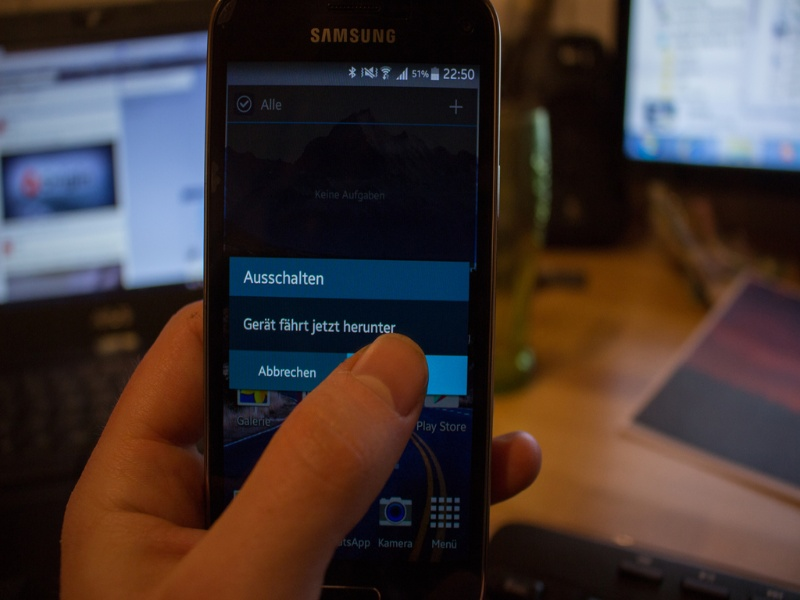cellphone: (202, 1, 491, 600)
